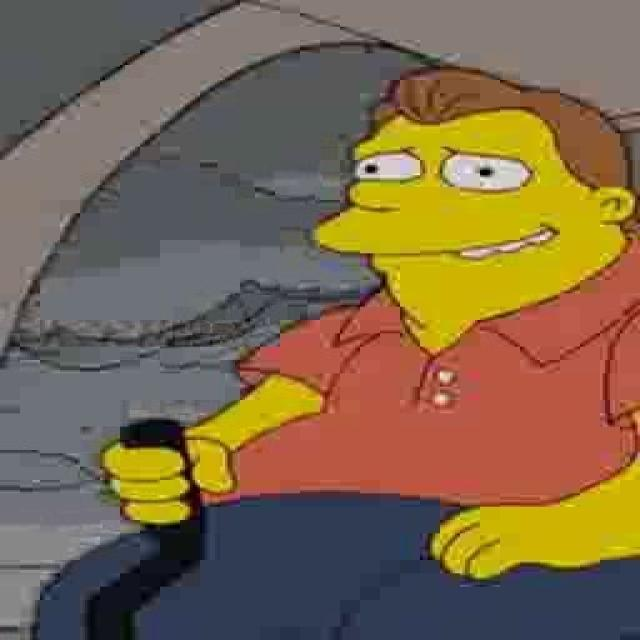Barney Gumble: (302, 70, 640, 333)
